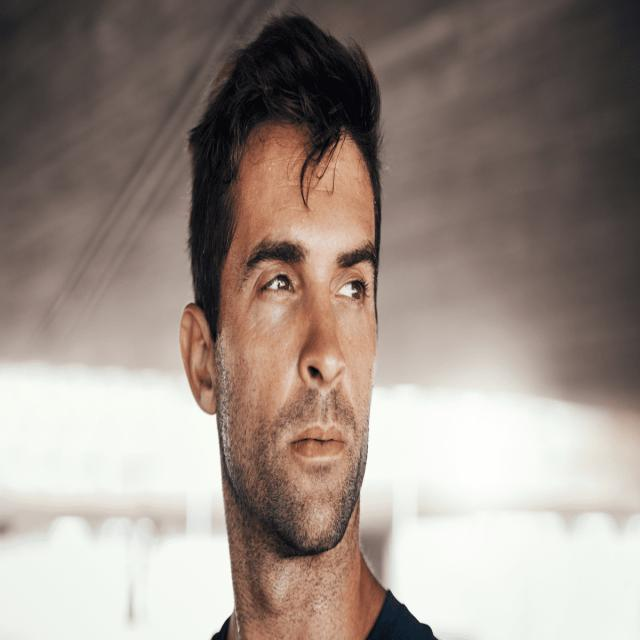beard: (218, 366, 370, 558)
hair: (188, 12, 382, 337)
